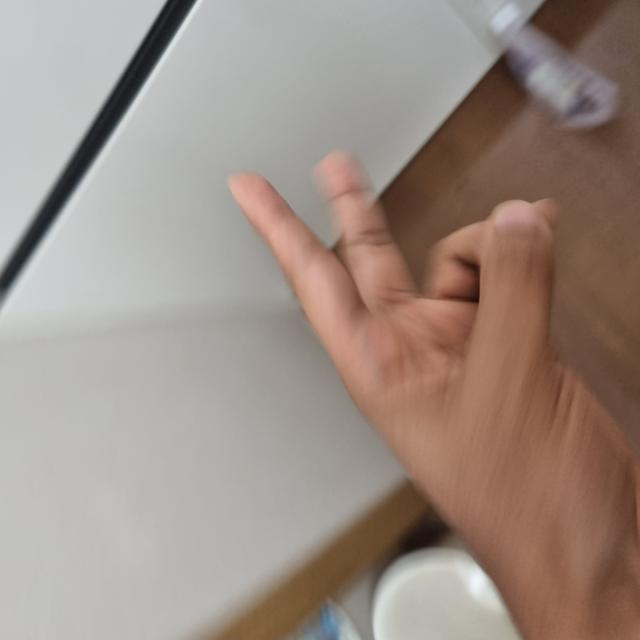Scissors: (18, 238, 486, 637)
